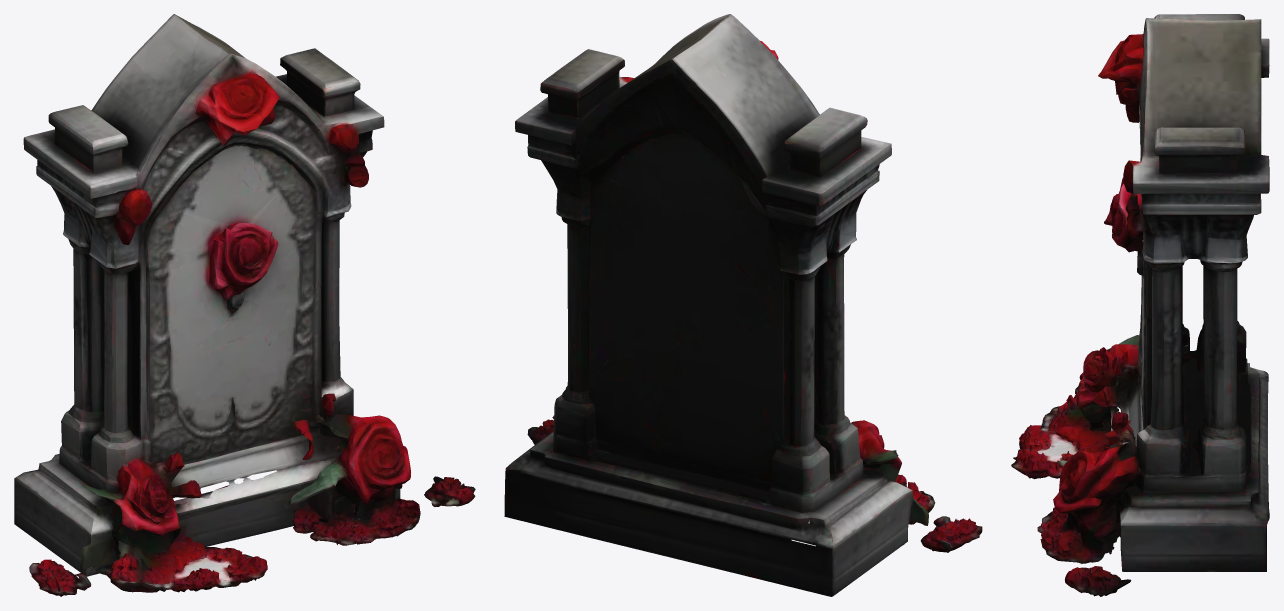
Rendered from prop_cathedral_grave.glb.
The picture shows the model from 3 angles, left to right: view 1: azimuth 30°, elevation 25°; view 2: azimuth 150°, elevation 25°; view 3: azimuth 270°, elevation 25°; orthographic projection. The views are drawn at different scales.
Visible parts, largest first — view 1: geometry_0; view 2: geometry_0; view 3: geometry_0.
Part boxes in pixels (<box>): geometry_0: <box>14,14,475,596</box>; geometry_0: <box>504,14,982,596</box>; geometry_0: <box>1011,14,1269,596</box>.
Size of the model in its own units: 0.953 by 1 by 0.4914.
1 material, 1 textured.
